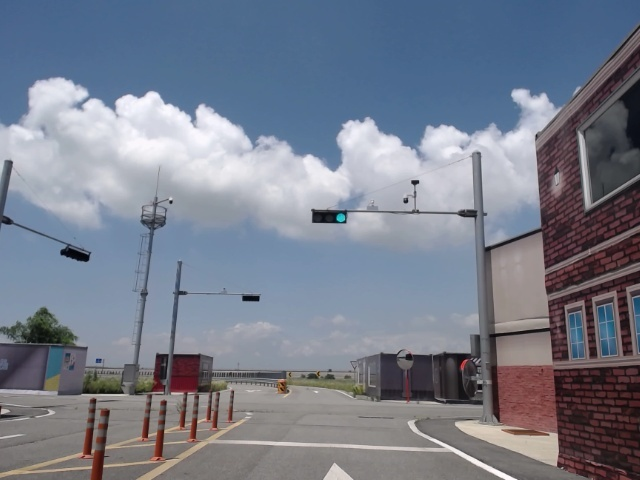green_3: (314, 210, 347, 222)
